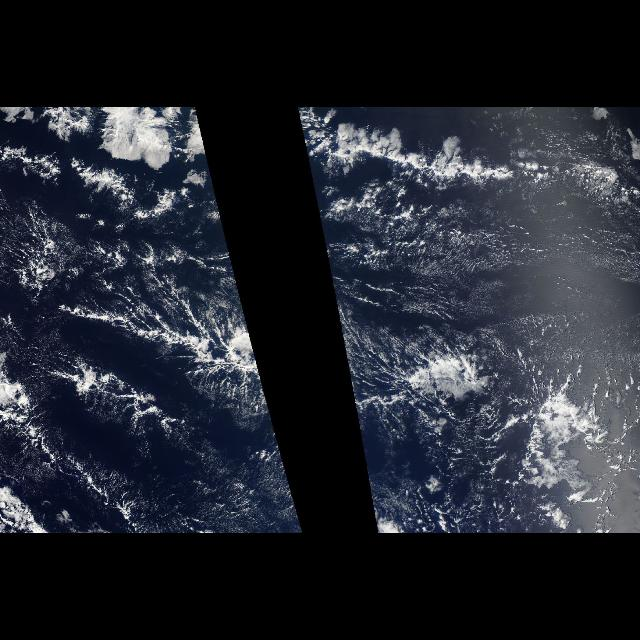Flower: (56, 114, 202, 186)
Sugar: (369, 225, 635, 358)
